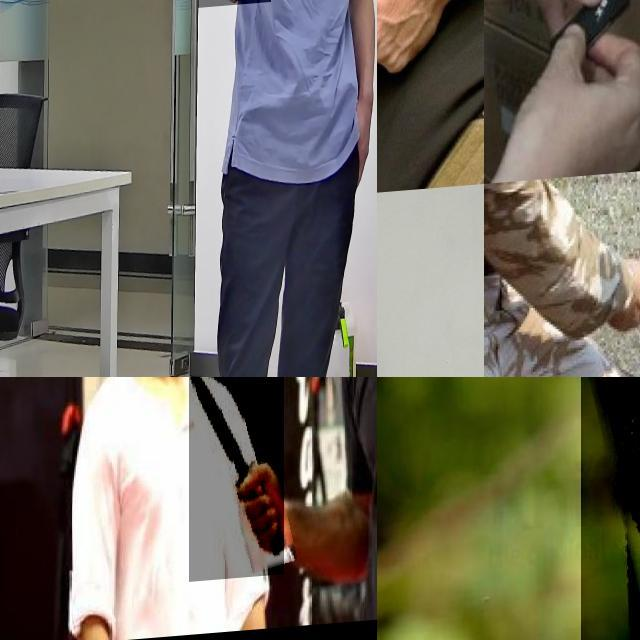-: (188, 377, 284, 585), (581, 377, 640, 640), (377, 276, 460, 377), (560, 0, 640, 80), (377, 0, 452, 81)
gun-knife-thesis - v11 Yolov5 augmented: (198, 0, 270, 35)
